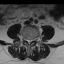CCS_normal: (28, 36, 30, 47)
LFS_stenosis: (32, 36, 34, 43)
LLS_stenosis: (30, 37, 32, 45)
RFS_normal: (24, 35, 26, 43)
RLS_normal: (26, 36, 28, 44)
